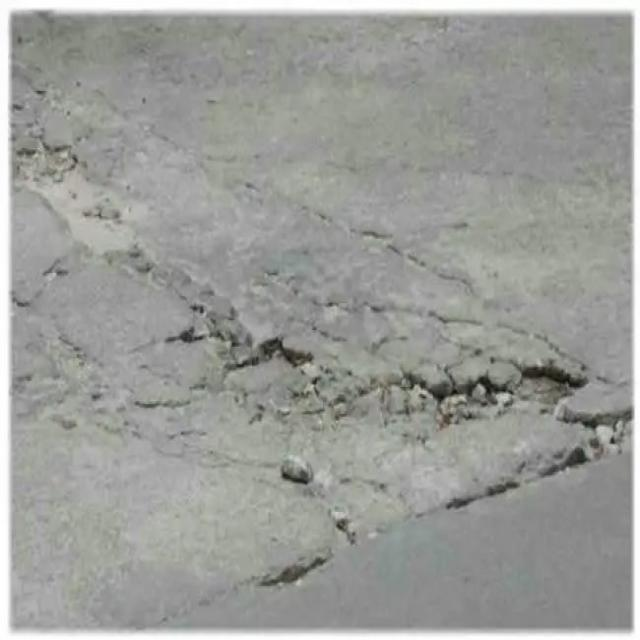pothole: (163, 282, 636, 604), (19, 134, 144, 261)
